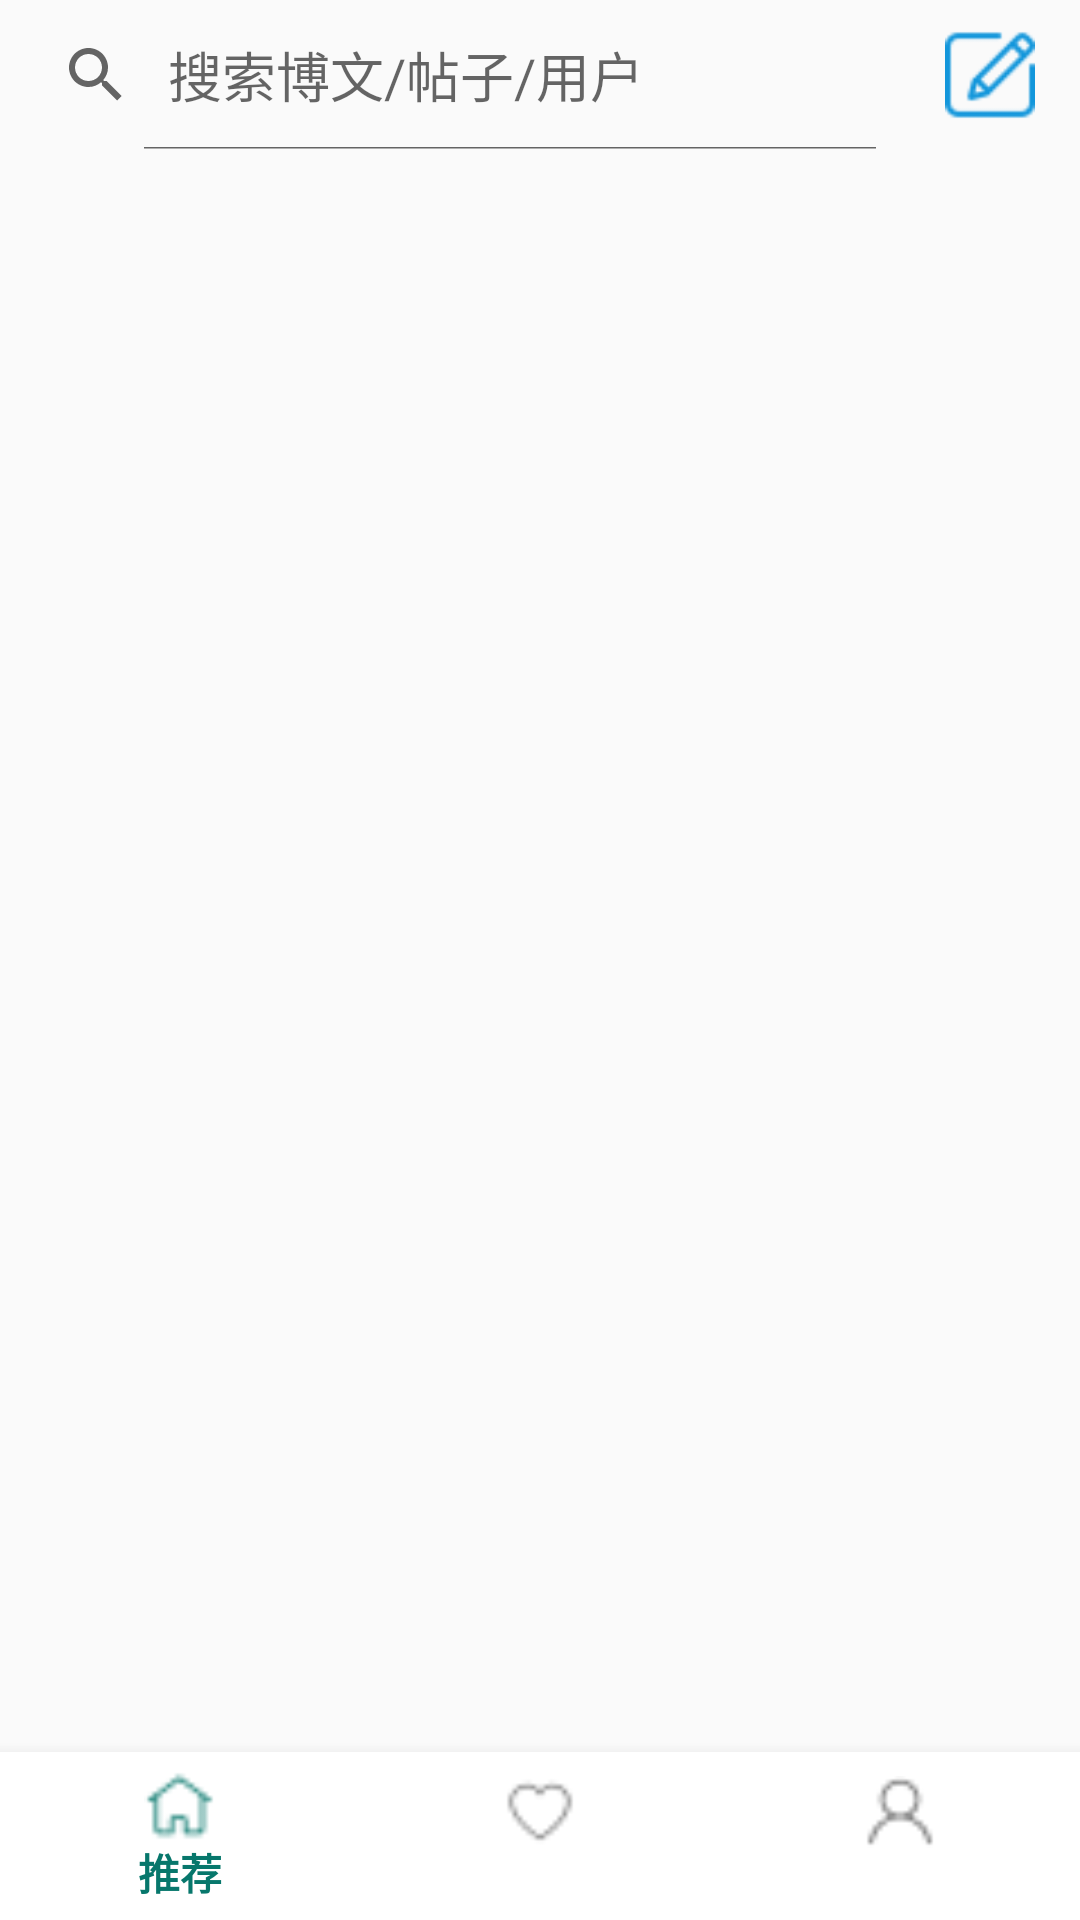

Icons on this 1080 x 1920 Android screen, each with the point to tap as point (x, y):
fabu: point (990, 75)
